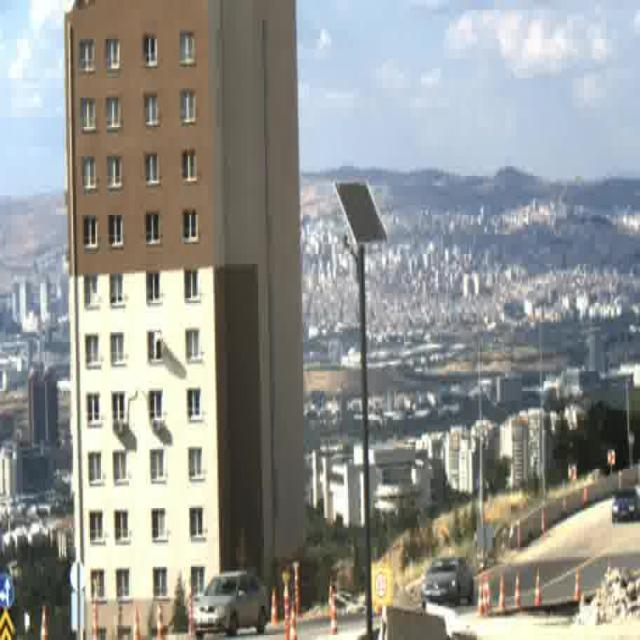Car: (194, 566, 268, 638), (424, 554, 474, 608), (611, 487, 637, 524)
